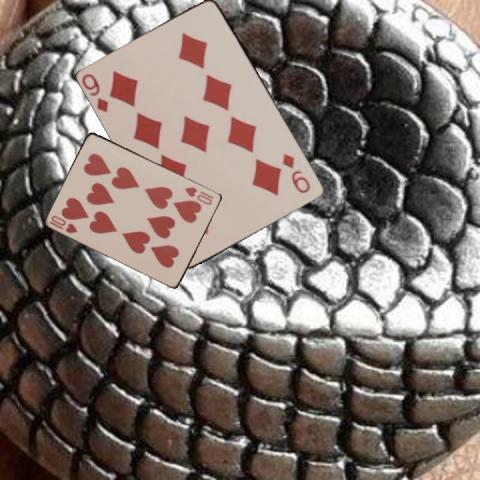10h: (182, 184, 216, 206), (47, 212, 79, 235)
9d: (279, 151, 312, 195), (78, 70, 110, 114)
